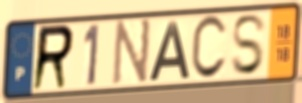1: (81, 22, 101, 89)
A: (146, 19, 192, 83)
C: (189, 13, 229, 83)
N: (110, 16, 154, 88)
R: (29, 22, 77, 94)
S: (229, 12, 269, 78)
